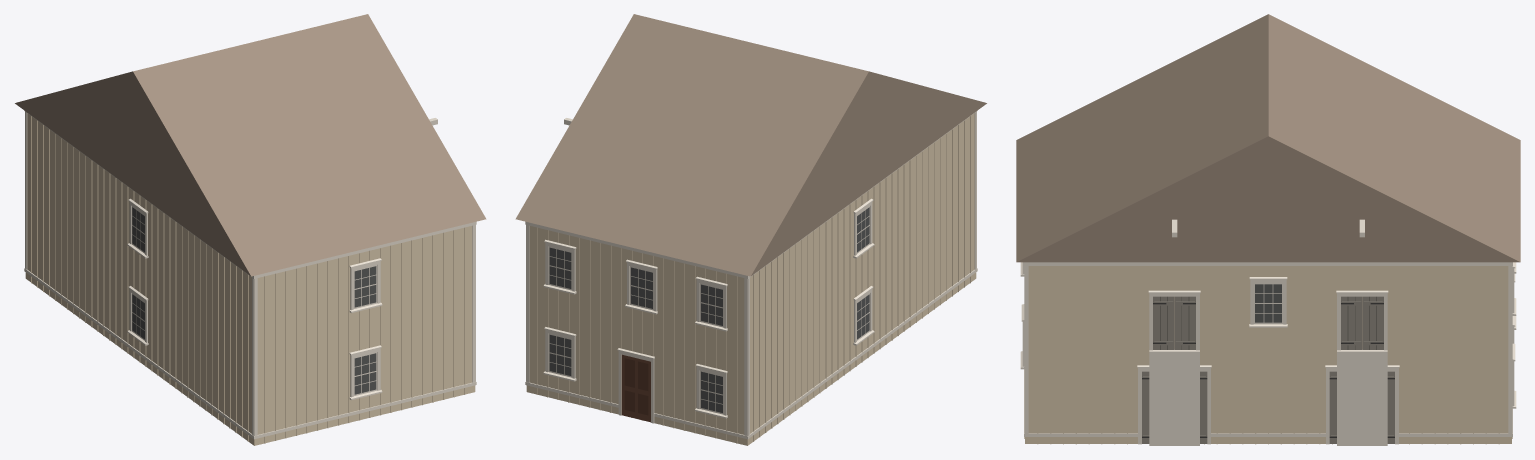
Rendered from recon_1835_blk_south_water_dearborn_f2_11__inferred_1835.glb.
The picture shows the model from 3 angles, left to right: view 1: azimuth 30°, elevation 25°; view 2: azimuth 150°, elevation 25°; view 3: azimuth 270°, elevation 25°; orthographic projection. The views are drawn at different scales.
Parts seen in each view (by area): view 1: recon_1835_blk_south_water_dearborn_f2_11__inferred_1835; view 2: recon_1835_blk_south_water_dearborn_f2_11__inferred_1835; view 3: recon_1835_blk_south_water_dearborn_f2_11__inferred_1835.
Part boxes in pixels (x1,y1,x2,y2): recon_1835_blk_south_water_dearborn_f2_11__inferred_1835: (15, 14, 486, 445); recon_1835_blk_south_water_dearborn_f2_11__inferred_1835: (515, 14, 986, 445); recon_1835_blk_south_water_dearborn_f2_11__inferred_1835: (1016, 14, 1520, 445).
Size of the model in its own units: 9.06 by 9.75 by 14.31.
